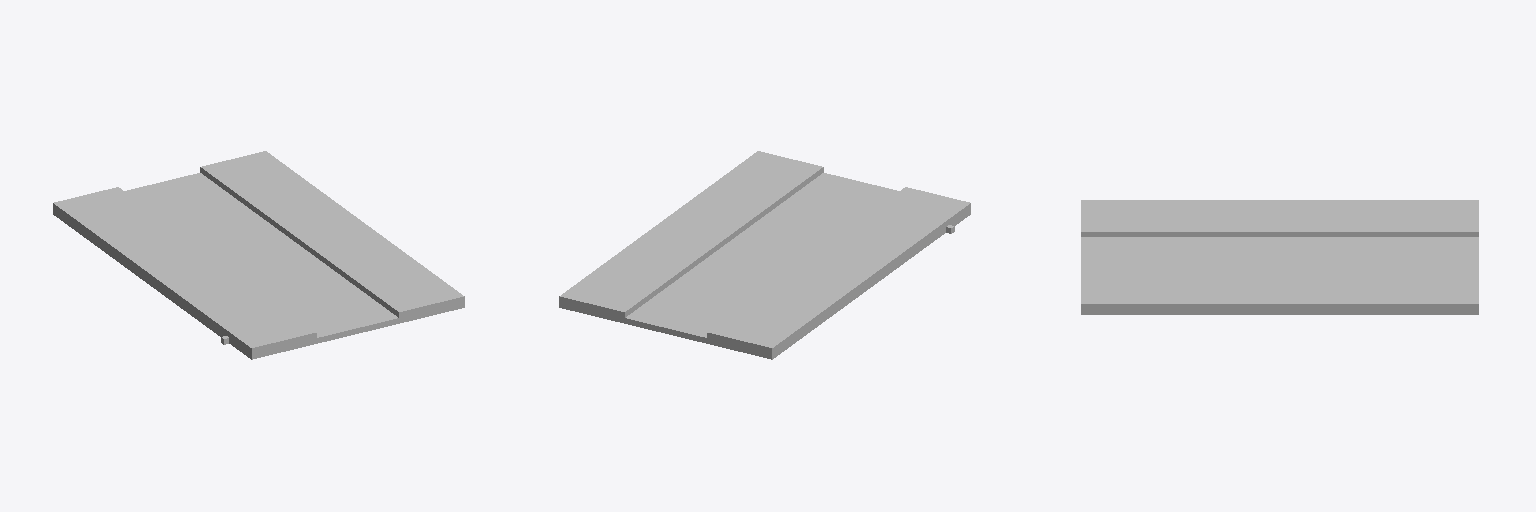
Rendered from path.obj.
The picture shows the model from 3 angles: view 1: azimuth 30°, elevation 25°; view 2: azimuth 150°, elevation 25°; view 3: azimuth 270°, elevation 25°; orthographic projection.
Visible parts, largest first — view 1: path; view 2: path; view 3: path.
Part boxes in pixels (left/top/right/bottom): path: left=53, top=151, right=464, bottom=359; path: left=559, top=151, right=970, bottom=359; path: left=1081, top=200, right=1478, bottom=314.
Size of the model in its own units: 40 by 2 by 63.